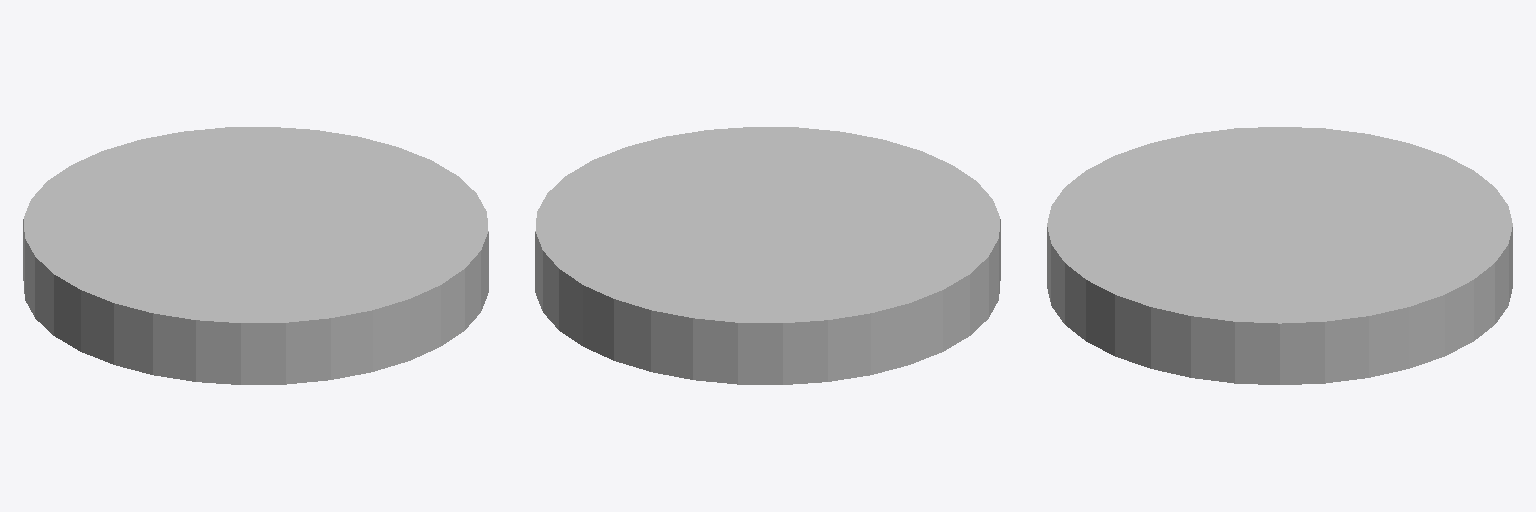
File: tree stump 2.obj
3 views of the same model, side by side, from view 1: azimuth 30°, elevation 25°; view 2: azimuth 150°, elevation 25°; view 3: azimuth 270°, elevation 25° (orthographic).
Parts seen in each view (by area): view 1: Cylinder; view 2: Cylinder; view 3: Cylinder.
Boxes of the visible parts, <box> form: Cylinder: <box>23,127,488,384</box>; Cylinder: <box>535,127,1000,384</box>; Cylinder: <box>1047,127,1512,384</box>.
Bounding box in the file's own units: 2 × 0.2928 × 2.